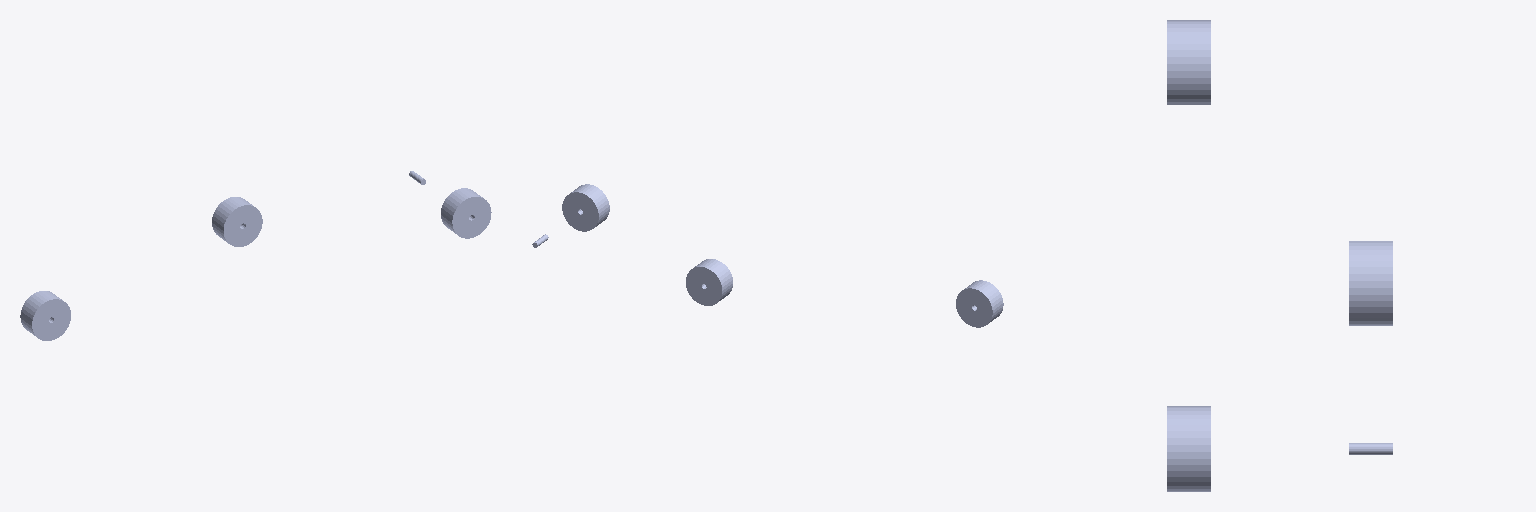
robot.urdf — trailer_assembly:
<?xml version="1.0" encoding="utf-8"?>
<!-- This URDF was automatically created by SolidWorks to URDF Exporter! Originally created by [author] ([email redacted]) 
     Commit Version: 1.6.0-4-g7f85cfe  Build Version: 1.6.7995.38578
     For more information, please see http://wiki.ros.org/sw_urdf_exporter -->
<robot
  name="trailer_assembly">
  <link
    name="base_link">
    <inertial>
      <origin
        xyz="0.0151794504413044 -2.72871741278684E-16 0.504333281484515"
        rpy="0 0 0" />
      <mass
        value="5623.96238078164" />
      <inertia
        ixx="1505.2735842584"
        ixy="3.7224720704788E-14"
        ixz="-96.1203292275202"
        iyy="7932.64531285603"
        iyz="-2.22978883011256E-14"
        izz="8447.43080900142" />
    </inertial>
    <visual>
      <origin
        xyz="0 0 0"
        rpy="0 0 0" />
      <geometry>
        <mesh
          filename="package://trailer_assembly/meshes/base_link.STL" />
      </geometry>
      <material
        name="">
        <color
          rgba="0.792156862745098 0.819607843137255 0.933333333333333 1" />
      </material>
    </visual>
    <collision>
      <origin
        xyz="0 0 0"
        rpy="0 0 0" />
      <geometry>
        <mesh
          filename="package://trailer_assembly/meshes/base_link.STL" />
      </geometry>
    </collision>
  </link>
  <link
    name="steer_left">
    <inertial>
      <origin
        xyz="0 0 1.11022302462516E-16"
        rpy="0 0 0" />
      <mass
        value="1.48283173249438" />
      <inertia
        ixx="0.0113467519863581"
        ixy="4.92526541296846E-36"
        ixz="0"
        iyy="0.00118626538599551"
        iyz="4.00998451212503E-35"
        izz="0.0113467519863581" />
    </inertial>
    <visual>
      <origin
        xyz="0 0 0"
        rpy="0 0 0" />
      <geometry>
        <mesh
          filename="package://trailer_assembly/meshes/steer_left.STL" />
      </geometry>
      <material
        name="">
        <color
          rgba="0.792156862745098 0.819607843137255 0.933333333333333 1" />
      </material>
    </visual>
    <collision>
      <origin
        xyz="0 0 0"
        rpy="0 0 0" />
      <geometry>
        <mesh
          filename="package://trailer_assembly/meshes/steer_left.STL" />
      </geometry>
    </collision>
  </link>
  <joint
    name="steer_left_joint"
    type="revolute">
    <origin
      xyz="1.46 0.6125 0"
      rpy="0 0 0" />
    <parent
      link="base_link" />
    <child
      link="steer_left" />
    <axis
      xyz="0 0 -1" />
    <limit
      lower="0"
      upper="0"
      effort="100"
      velocity="31.4" />
  </joint>
  <link
    name="front_left_wheel">
    <inertial>
      <origin
        xyz="0 0 -1.11022302462516E-16"
        rpy="0 0 0" />
      <mass
        value="74.1907633489725" />
      <inertia
        ixx="2.08218966287404"
        ixy="6.07695317678125E-17"
        ixz="-3.14934790723029E-18"
        iyy="3.08830412900736"
        iyz="3.93136225252298E-18"
        izz="2.08218966287404" />
    </inertial>
    <visual>
      <origin
        xyz="0 0 0"
        rpy="0 0 0" />
      <geometry>
        <mesh
          filename="package://trailer_assembly/meshes/front_left_wheel.STL" />
      </geometry>
      <material
        name="">
        <color
          rgba="0.792156862745098 0.819607843137255 0.933333333333333 1" />
      </material>
    </visual>
    <collision>
      <origin
        xyz="0 0 0"
        rpy="0 0 0" />
      <geometry>
        <mesh
          filename="package://trailer_assembly/meshes/front_left_wheel.STL" />
      </geometry>
    </collision>
  </link>
  <joint
    name="front_left_wheel_joint"
    type="continuous">
    <origin
      xyz="0 0 0"
      rpy="0 0 0" />
    <parent
      link="steer_left" />
    <child
      link="front_left_wheel" />
    <axis
      xyz="0 1 0" />
  </joint>
  <link
    name="steer_right">
    <inertial>
      <origin
        xyz="0 0 1.11022302462516E-16"
        rpy="0 0 0" />
      <mass
        value="1.48283173249438" />
      <inertia
        ixx="0.0113467519863581"
        ixy="4.92526541296846E-36"
        ixz="0"
        iyy="0.00118626538599551"
        iyz="4.00998451212503E-35"
        izz="0.0113467519863581" />
    </inertial>
    <visual>
      <origin
        xyz="0 0 0"
        rpy="0 0 0" />
      <geometry>
        <mesh
          filename="package://trailer_assembly/meshes/steer_right.STL" />
      </geometry>
      <material
        name="">
        <color
          rgba="0.792156862745098 0.819607843137255 0.933333333333333 1" />
      </material>
    </visual>
    <collision>
      <origin
        xyz="0 0 0"
        rpy="0 0 0" />
      <geometry>
        <mesh
          filename="package://trailer_assembly/meshes/steer_right.STL" />
      </geometry>
    </collision>
  </link>
  <joint
    name="steer_right_joint"
    type="revolute">
    <origin
      xyz="1.46 -0.6125 0"
      rpy="0 0 0" />
    <parent
      link="base_link" />
    <child
      link="steer_right" />
    <axis
      xyz="0 0 1" />
    <limit
      lower="0"
      upper="0"
      effort="100"
      velocity="31.4" />
  </joint>
  <link
    name="front_right_wheel">
    <inertial>
      <origin
        xyz="0 0 -1.11022302462516E-16"
        rpy="0 0 0" />
      <mass
        value="74.1907633489725" />
      <inertia
        ixx="2.08218966287404"
        ixy="6.07695317678125E-17"
        ixz="1.71424910145489E-17"
        iyy="3.08830412900736"
        iyz="1.83241460922682E-18"
        izz="2.08218966287404" />
    </inertial>
    <visual>
      <origin
        xyz="0 0 0"
        rpy="0 0 0" />
      <geometry>
        <mesh
          filename="package://trailer_assembly/meshes/front_right_wheel.STL" />
      </geometry>
      <material
        name="">
        <color
          rgba="0.792156862745098 0.819607843137255 0.933333333333333 1" />
      </material>
    </visual>
    <collision>
      <origin
        xyz="0 0 0"
        rpy="0 0 0" />
      <geometry>
        <mesh
          filename="package://trailer_assembly/meshes/front_right_wheel.STL" />
      </geometry>
    </collision>
  </link>
  <joint
    name="front_right_wheel_joint"
    type="continuous">
    <origin
      xyz="0 0 0"
      rpy="0 0 0" />
    <parent
      link="steer_right" />
    <child
      link="front_right_wheel" />
    <axis
      xyz="0 1 0" />
  </joint>
  <link
    name="rear_left_wheel">
    <inertial>
      <origin
        xyz="0 -1.11022302462516E-16 0"
        rpy="0 0 0" />
      <mass
        value="74.1907633489725" />
      <inertia
        ixx="2.08218966287404"
        ixy="-3.48598814788576E-15"
        ixz="9.86076131526265E-32"
        iyy="3.08830412900736"
        iyz="-1.23785934175428E-30"
        izz="2.08218966287404" />
    </inertial>
    <visual>
      <origin
        xyz="0 0 0"
        rpy="0 0 0" />
      <geometry>
        <mesh
          filename="package://trailer_assembly/meshes/rear_left_wheel.STL" />
      </geometry>
      <material
        name="">
        <color
          rgba="0.792156862745098 0.819607843137255 0.933333333333333 1" />
      </material>
    </visual>
    <collision>
      <origin
        xyz="0 0 0"
        rpy="0 0 0" />
      <geometry>
        <mesh
          filename="package://trailer_assembly/meshes/rear_left_wheel.STL" />
      </geometry>
    </collision>
  </link>
  <joint
    name="rear_left_wheel_joint"
    type="continuous">
    <origin
      xyz="-1.17 0.6125 0"
      rpy="0 0 0" />
    <parent
      link="base_link" />
    <child
      link="rear_left_wheel" />
    <axis
      xyz="0 1 0" />
    <limit
      lower="0"
      upper="0"
      effort="100"
      velocity="31.4" />
  </joint>
  <link
    name="rear_right_wheel">
    <inertial>
      <origin
        xyz="0 1.11022302462516E-16 0"
        rpy="0 0 0" />
      <mass
        value="74.1907633489725" />
      <inertia
        ixx="2.08218966287404"
        ixy="3.48598814788576E-15"
        ixz="9.86076131526265E-32"
        iyy="3.08830412900736"
        iyz="1.22529057414273E-30"
        izz="2.08218966287404" />
    </inertial>
    <visual>
      <origin
        xyz="0 0 0"
        rpy="0 0 0" />
      <geometry>
        <mesh
          filename="package://trailer_assembly/meshes/rear_right_wheel.STL" />
      </geometry>
      <material
        name="">
        <color
          rgba="0.792156862745098 0.819607843137255 0.933333333333333 1" />
      </material>
    </visual>
    <collision>
      <origin
        xyz="0 0 0"
        rpy="0 0 0" />
      <geometry>
        <mesh
          filename="package://trailer_assembly/meshes/rear_right_wheel.STL" />
      </geometry>
    </collision>
  </link>
  <joint
    name="rear_right_wheel_joint"
    type="continuous">
    <origin
      xyz="-1.17 -0.6125 0"
      rpy="0 0 0" />
    <parent
      link="base_link" />
    <child
      link="rear_right_wheel" />
    <axis
      xyz="0 1 0" />
    <limit
      lower="0"
      upper="0"
      effort="100"
      velocity="31.4" />
  </joint>
  <link
    name="trailer">
    <inertial>
      <origin
        xyz="-2.06473943000056 -9.59060549514745E-17 0.256889099220807"
        rpy="0 0 0" />
      <mass
        value="2715.11151397176" />
      <inertia
        ixx="634.919956534306"
        ixy="7.66014195843368E-14"
        ixz="9.29453456945521"
        iyy="1640.30654615615"
        iyz="4.53164968888437E-15"
        izz="2004.11171155846" />
    </inertial>
    <visual>
      <origin
        xyz="0 0 0"
        rpy="0 0 0" />
      <geometry>
        <mesh
          filename="package://trailer_assembly/meshes/trailer.STL" />
      </geometry>
      <material
        name="">
        <color
          rgba="0.792156862745098 0.819607843137255 0.933333333333333 1" />
      </material>
    </visual>
    <collision>
      <origin
        xyz="0 0 0"
        rpy="0 0 0" />
      <geometry>
        <mesh
          filename="package://trailer_assembly/meshes/trailer.STL" />
      </geometry>
    </collision>
  </link>
  <joint
    name="trailer_joint"
    type="revolute">
    <origin
      xyz="-2.46 0 0.15"
      rpy="0 0 0" />
    <parent
      link="base_link" />
    <child
      link="trailer" />
    <axis
      xyz="0 0 -1" />
    <limit
      lower="-1"
      upper="1"
      effort="200"
      velocity="0.5" />
  </joint>
  <link
    name="t_left_wheel">
    <inertial>
      <origin
        xyz="0 0 1.11022302462516E-16"
        rpy="0 0 0" />
      <mass
        value="74.1907633489725" />
      <inertia
        ixx="2.08218966287404"
        ixy="1.54577203395557E-16"
        ixz="-2.7725470652962E-17"
        iyy="3.08830412900736"
        iyz="1.28966559951787E-17"
        izz="2.08218966287404" />
    </inertial>
    <visual>
      <origin
        xyz="0 0 0"
        rpy="0 0 0" />
      <geometry>
        <mesh
          filename="package://trailer_assembly/meshes/t_left_wheel.STL" />
      </geometry>
      <material
        name="">
        <color
          rgba="0.792156862745098 0.819607843137255 0.933333333333333 1" />
      </material>
    </visual>
    <collision>
      <origin
        xyz="0 0 0"
        rpy="0 0 0" />
      <geometry>
        <mesh
          filename="package://trailer_assembly/meshes/t_left_wheel.STL" />
      </geometry>
    </collision>
  </link>
  <joint
    name="t_left_wheel_joint"
    type="continuous">
    <origin
      xyz="-2.2086 0.6125 -0.15"
      rpy="0 0 0" />
    <parent
      link="trailer" />
    <child
      link="t_left_wheel" />
    <axis
      xyz="0 -1 0" />
    <limit
      lower="0"
      upper="0"
      effort="100"
      velocity="31.4" />
  </joint>
  <link
    name="t_right_wheel">
    <inertial>
      <origin
        xyz="0 0 1.11022302462516E-16"
        rpy="0 0 0" />
      <mass
        value="74.1907633489725" />
      <inertia
        ixx="2.08218966287404"
        ixy="-1.11352546000203E-18"
        ixz="6.83908165898515E-17"
        iyy="3.08830412900736"
        iyz="1.38630298064868E-17"
        izz="2.08218966287404" />
    </inertial>
    <visual>
      <origin
        xyz="0 0 0"
        rpy="0 0 0" />
      <geometry>
        <mesh
          filename="package://trailer_assembly/meshes/t_right_wheel.STL" />
      </geometry>
      <material
        name="">
        <color
          rgba="0.792156862745098 0.819607843137255 0.933333333333333 1" />
      </material>
    </visual>
    <collision>
      <origin
        xyz="0 0 0"
        rpy="0 0 0" />
      <geometry>
        <mesh
          filename="package://trailer_assembly/meshes/t_right_wheel.STL" />
      </geometry>
    </collision>
  </link>
  <joint
    name="t_right_wheel_joint"
    type="continuous">
    <origin
      xyz="-2.2086 -0.6125 -0.15"
      rpy="0 0 0" />
    <parent
      link="trailer" />
    <child
      link="t_right_wheel" />
    <axis
      xyz="0 -1 0" />
    <limit
      lower="0"
      upper="0"
      effort="100"
      velocity="31.4" />
  </joint>
</robot>

--- Render facts (derived) ---
The picture shows the robot from 3 angles, left to right: view 1: azimuth 30°, elevation 25°; view 2: azimuth 150°, elevation 25°; view 3: azimuth 270°, elevation 25°; orthographic projection.
Model trailer_assembly with 10 links and 9 joints (3 revolute, 6 continuous), rooted at base_link, posed every joint at zero.
Visible links, largest first — view 1: t_right_wheel, rear_left_wheel, front_right_wheel; view 2: front_right_wheel, t_right_wheel, rear_left_wheel; view 3: front_right_wheel, rear_left_wheel, t_right_wheel, steer_left.
Boxes of the visible links, x1,y1,x2,y2 form: t_right_wheel: [20, 291, 70, 340]; rear_left_wheel: [212, 197, 262, 246]; front_right_wheel: [441, 188, 491, 238]; front_right_wheel: [562, 184, 609, 231]; t_right_wheel: [956, 280, 1003, 327]; rear_left_wheel: [686, 259, 732, 305]; front_right_wheel: [1167, 406, 1210, 491]; rear_left_wheel: [1349, 241, 1392, 325]; t_right_wheel: [1167, 20, 1210, 104]; steer_left: [1349, 443, 1392, 454].
Bounding box of the posed robot: 6.7 × 1.52 × 0.5715 m (x, y, z).
4 mesh visuals loaded from 10 distinct referenced files (4 binary STL); not drawn: 6 (reference not matched to a file when rendering).